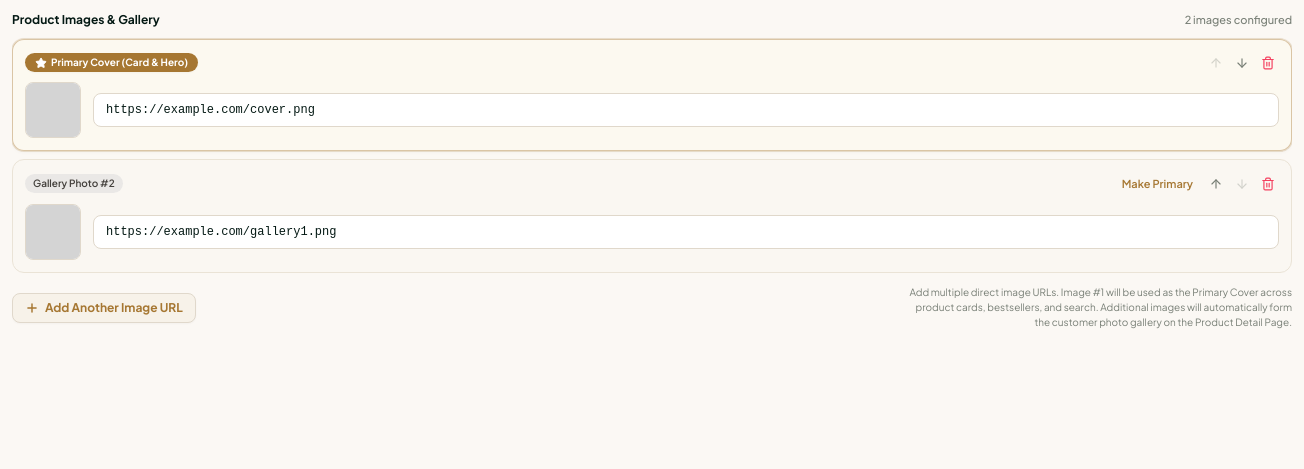
Test case: MultipleImageUrlsEditor Component Suite › clicking Add Another Image URL appends a new input and focuses it
This screenshot has width=1304, height=469.
Click the button "Add Another Image URL" at (104, 308), box [12, 292, 196, 322]
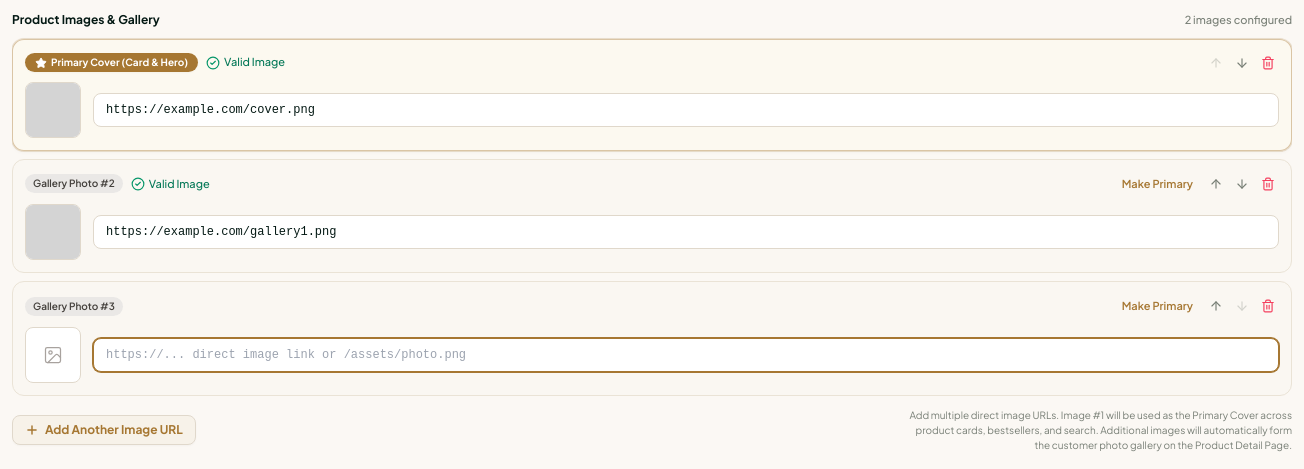
Now the number of fields with placeholder "https://... direct image link or /assets/photo.png" is 3, box [93, 92, 1279, 126]; [93, 215, 1279, 249]; [93, 338, 1279, 372]
Now the field with placeholder "https://... direct image link or /assets/photo.png" is empty, box [93, 338, 1279, 372]
